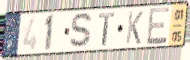1: (43, 12, 57, 54)
4: (21, 15, 40, 53)
E: (146, 6, 171, 48)
K: (125, 10, 145, 46)
S: (68, 12, 95, 51)
T: (98, 12, 115, 48)
